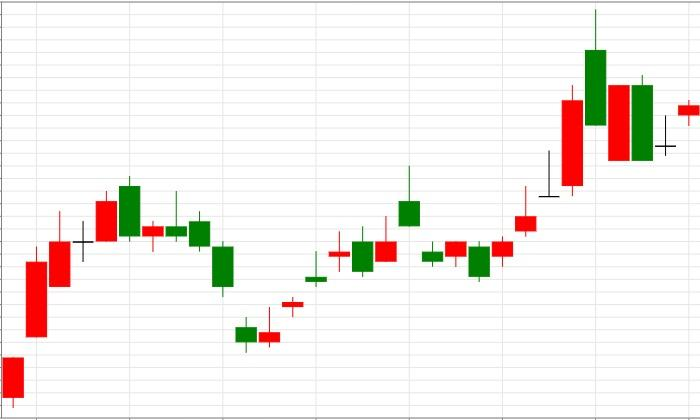shooting_star_fall: (259, 165, 420, 348)
